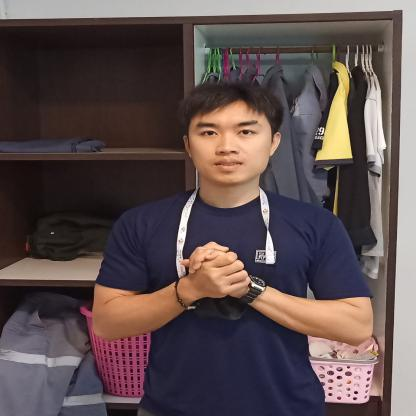Grieve: (170, 235, 288, 328)
